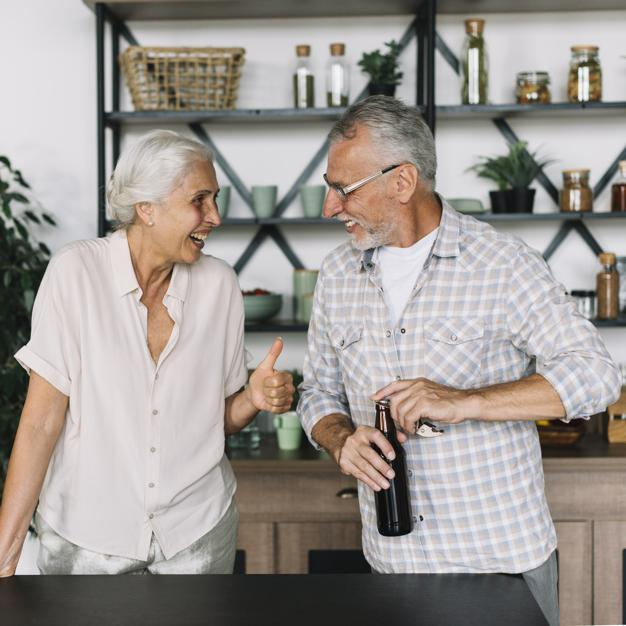thumbsup: (261, 336, 296, 414)
